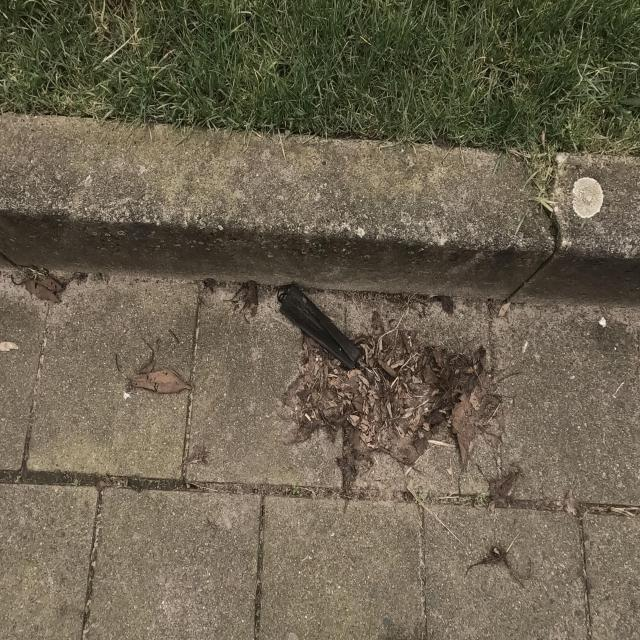Mask: (273, 283, 367, 376)
